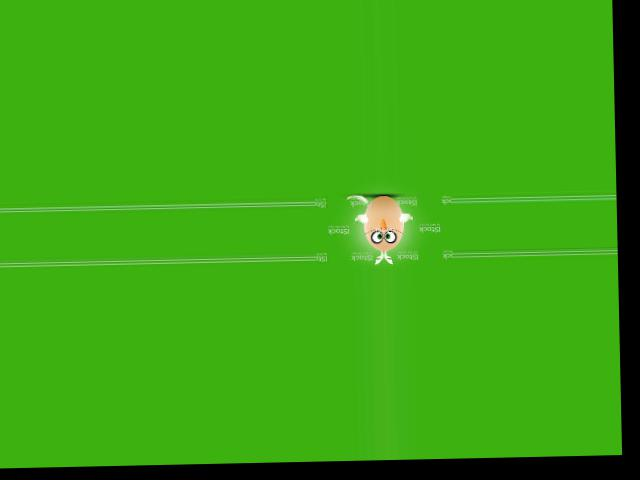egg: (362, 194, 403, 251)
